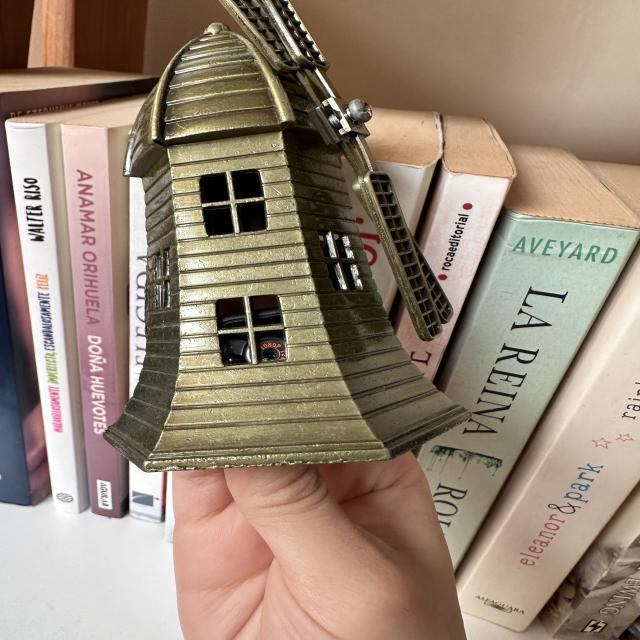hidden camera: (261, 346, 281, 363)
